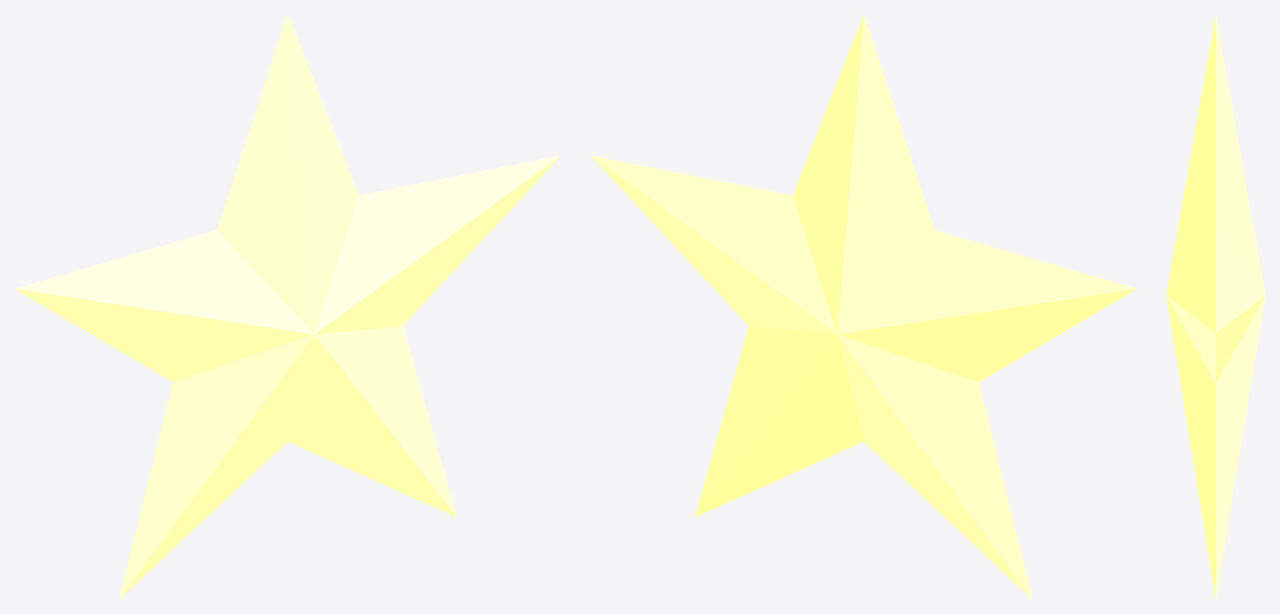
The picture shows the model from 3 angles, left to right: view 1: azimuth 30°, elevation 25°; view 2: azimuth 150°, elevation 25°; view 3: azimuth 270°, elevation 25°; orthographic projection. The views are drawn at different scales.
Visible parts, largest first — view 1: Star_glow; view 2: Star_glow; view 3: Star_glow.
Boxes of the visible parts, x1,y1,x2,y2 form: Star_glow: [14, 14, 560, 599]; Star_glow: [591, 14, 1137, 599]; Star_glow: [1166, 15, 1265, 598].
Size of the model in its own units: 0.9511 by 0.9045 by 0.16.
